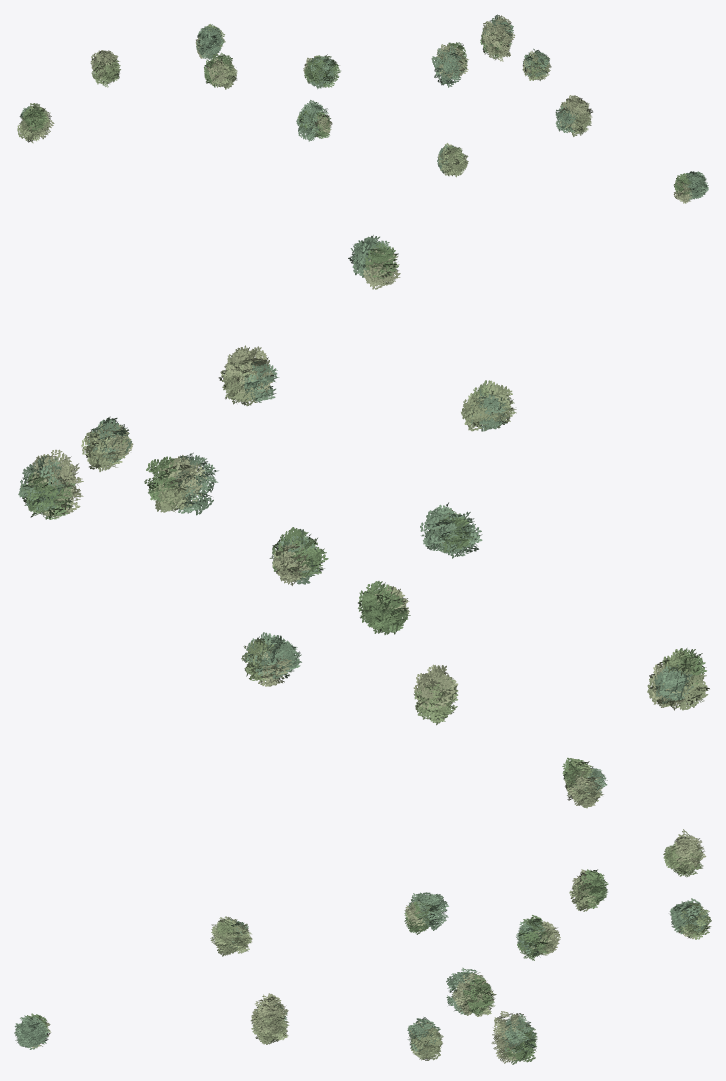
Rendered from campus-tree-5_-2-near.glb.
3 renders of one model, top to bottom at view 1: azimuth 30°, elevation 25°; view 2: azimuth 150°, elevation 25°; view 3: azimuth 270°, elevation 25°, orthographic. The views are drawn at different scales.
Parts seen in each view (by area): view 1: Campus leaf canopy; view 2: Campus leaf canopy; view 3: Campus leaf canopy.
Boxes of the visible parts, bbox=[...] form: Campus leaf canopy: bbox=[17, 14, 708, 203]; Campus leaf canopy: bbox=[18, 235, 709, 725]; Campus leaf canopy: bbox=[14, 757, 711, 1064].
Size of the model in its own units: 68.36 by 6.75 by 73.14.
Materials: 1 (1 with a texture image).
